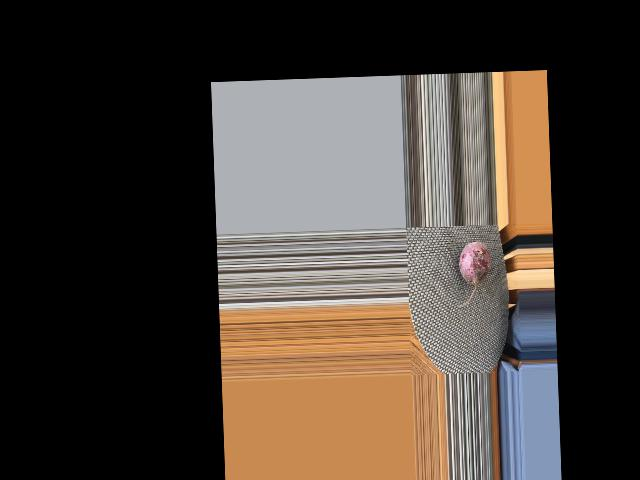beet: (454, 241, 492, 307)
